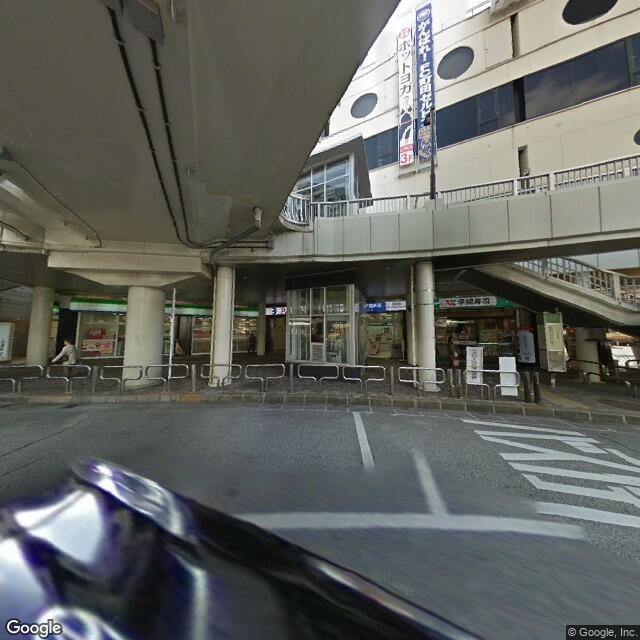family_mart: (67, 296, 261, 320)
